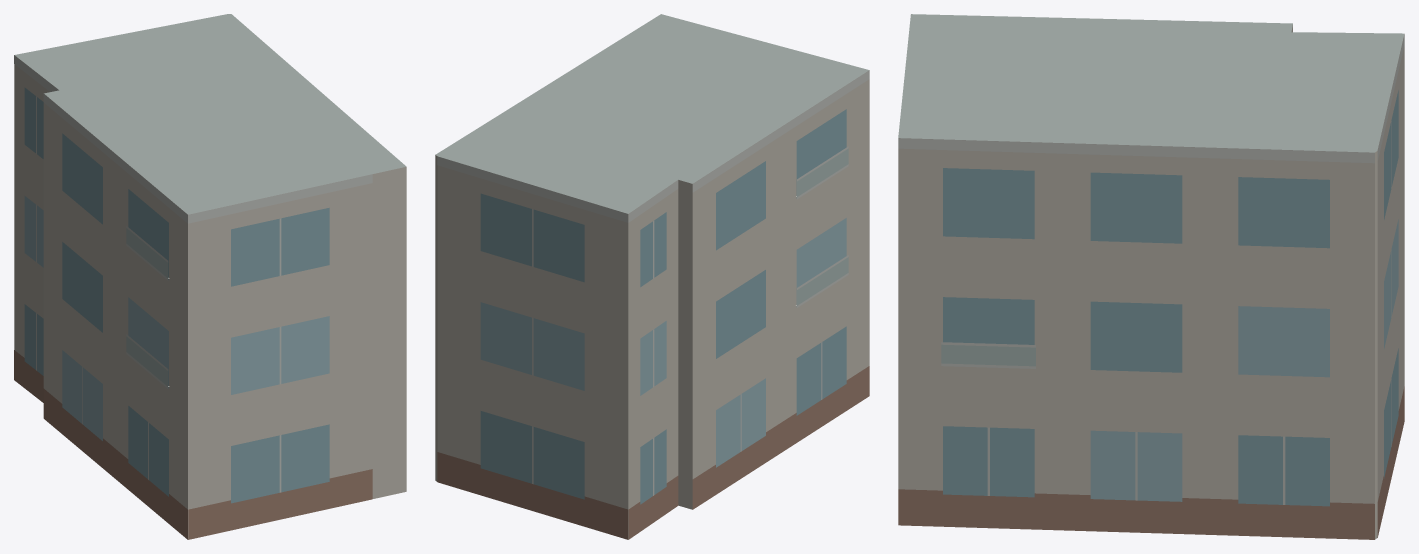
File: survey-upis-32490771.glb
3 renders of one model, left to right at view 1: azimuth 30°, elevation 25°; view 2: azimuth 150°, elevation 25°; view 3: azimuth 270°, elevation 25°, orthographic. The views are drawn at different scales.
Visible parts, largest first — view 1: survey-upis-32490771.tmp; view 2: survey-upis-32490771.tmp; view 3: survey-upis-32490771.tmp.
Boxes of the visible parts, x1,y1,x2,y2 form: survey-upis-32490771.tmp: [14, 14, 406, 539]; survey-upis-32490771.tmp: [435, 14, 869, 539]; survey-upis-32490771.tmp: [898, 14, 1404, 539].
Size of the model in its own units: 6.84 by 8.9 by 10.55.
